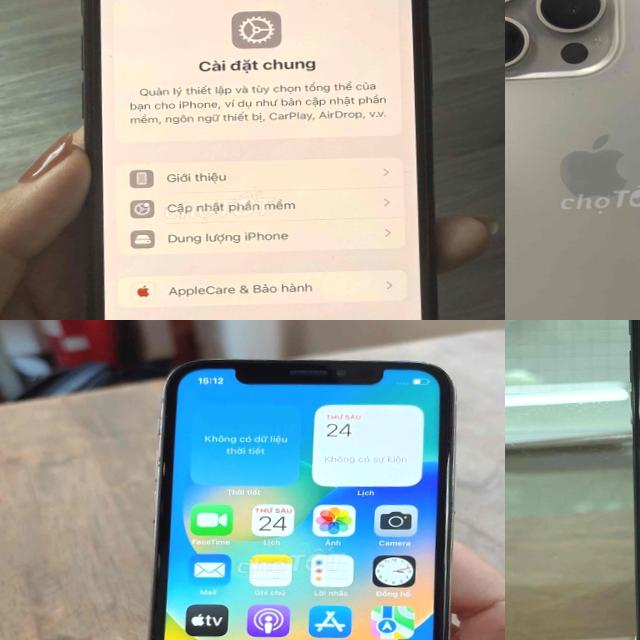gen_11: (613, 320, 640, 640)
gen_15: (505, 0, 640, 320)
gen_x_xs: (58, 0, 452, 320), (119, 349, 480, 640)
